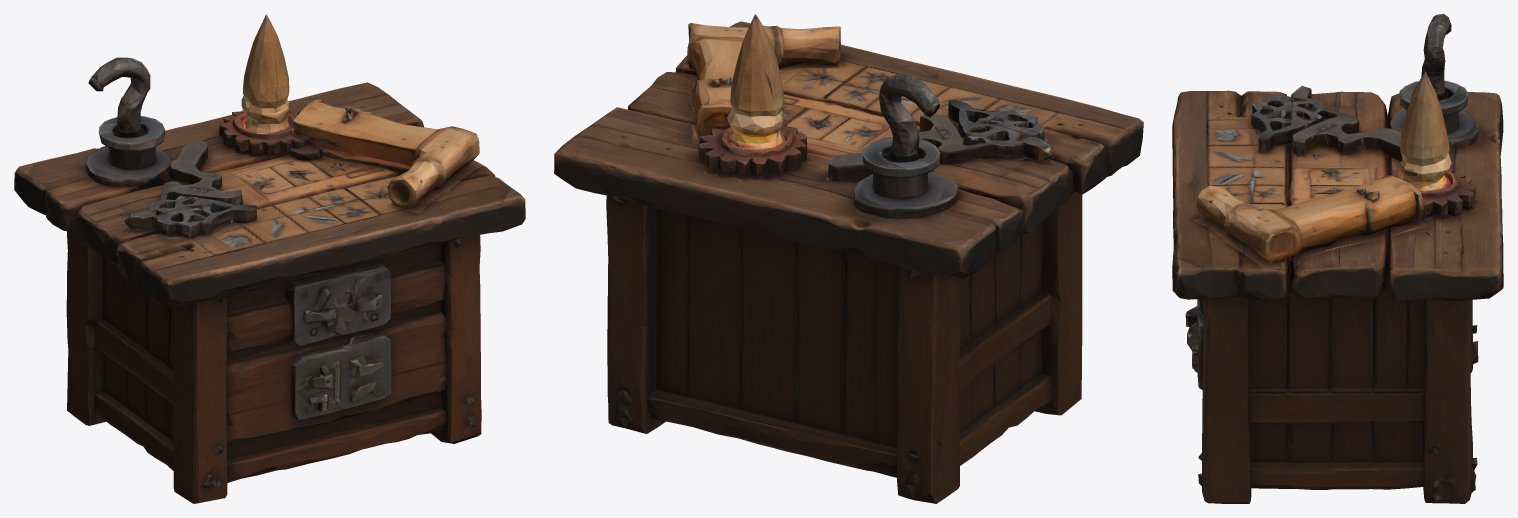
File: Table_with_primitive__0613145315_texture.fbx
3 views of the same model, side by side, from view 1: azimuth 30°, elevation 25°; view 2: azimuth 150°, elevation 25°; view 3: azimuth 270°, elevation 25° (orthographic). The views are drawn at different scales.
Visible parts, largest first — view 1: temp; view 2: temp; view 3: temp.
Part boxes in pixels (x1,y1,x2,y2): temp: (14,14,525,503); temp: (554,14,1143,503); temp: (1172,14,1503,503).
Bounding box in the file's own units: 200 × 195 × 154.
Materials: 1 (1 with a texture image).
